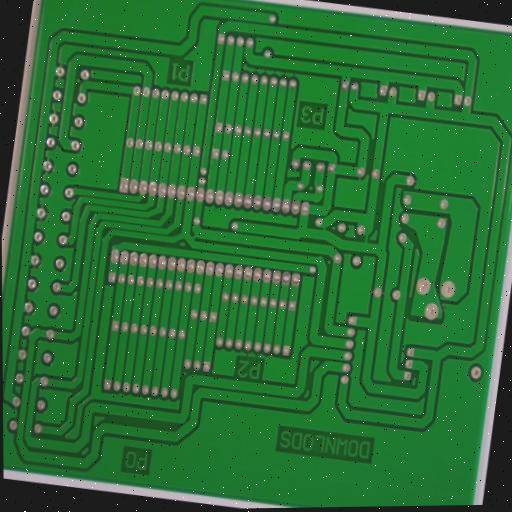short_circuit: (185, 223, 205, 247), (315, 217, 334, 238)
